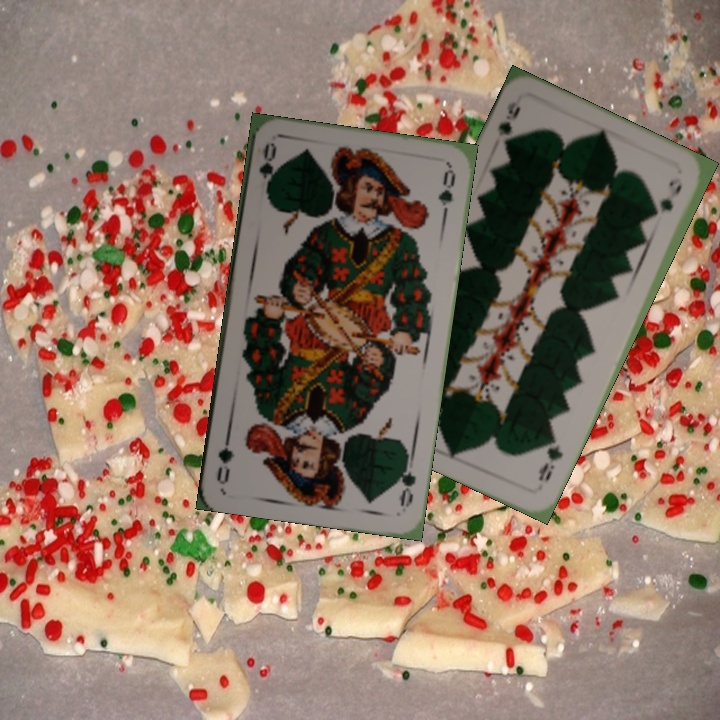G9: (493, 97, 523, 155), (534, 433, 566, 484)
GO: (255, 140, 279, 200), (394, 453, 418, 510)
